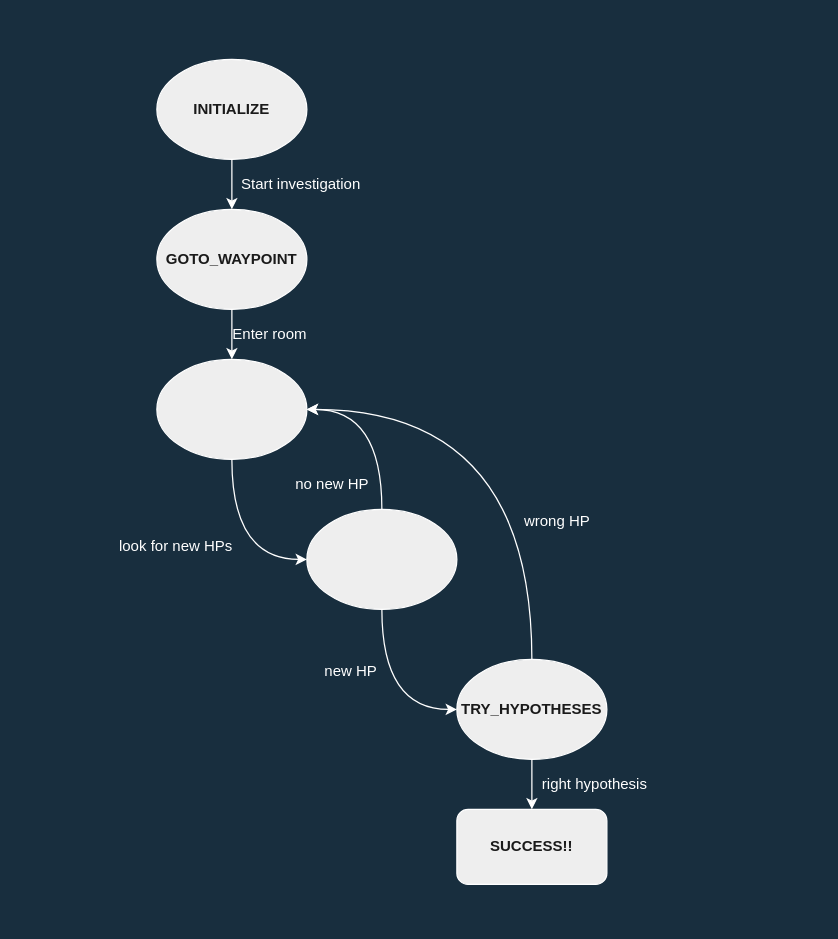
This 838x939 diagram has some shape labels left out. Here are the shapes that lost their labels. From the top down, the centre of each, then its label:
At (231,408): "SEARCH_HINTS".
At (381,558): "CHECK_NEW_HP".
